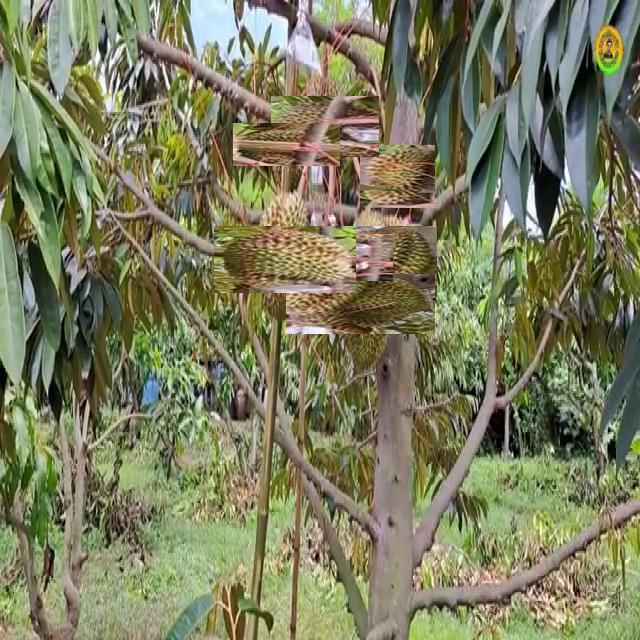durian: (232, 206, 338, 312), (308, 252, 414, 356), (334, 216, 427, 308), (279, 212, 371, 303), (283, 84, 368, 169), (248, 107, 324, 182), (363, 142, 432, 212)
